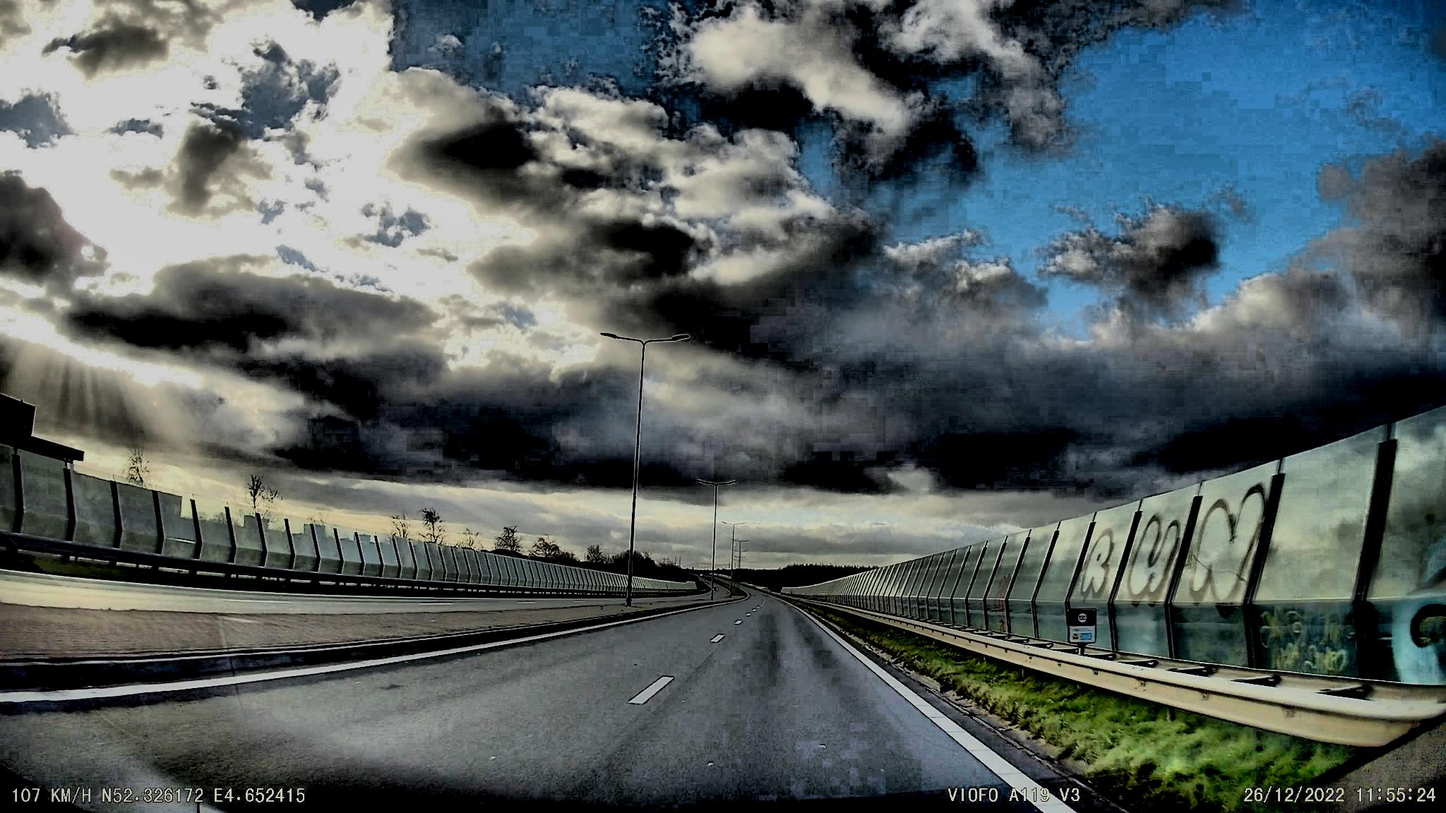Roads: (0, 598, 1134, 813)
